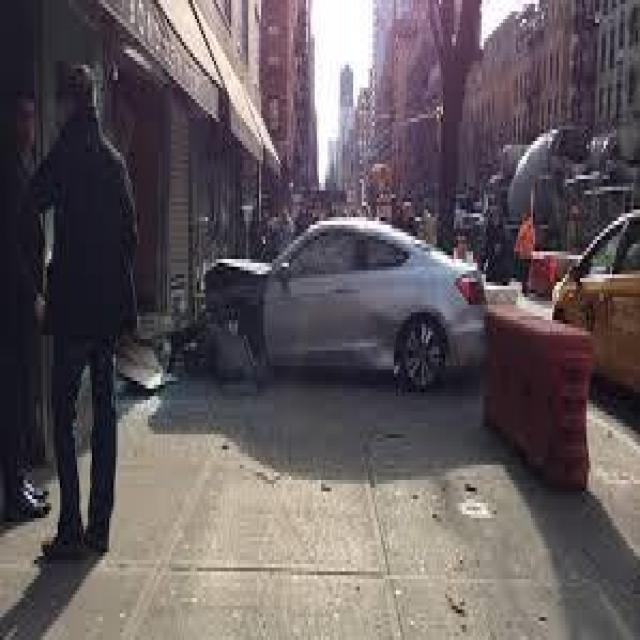damaged: (187, 255, 266, 374)
